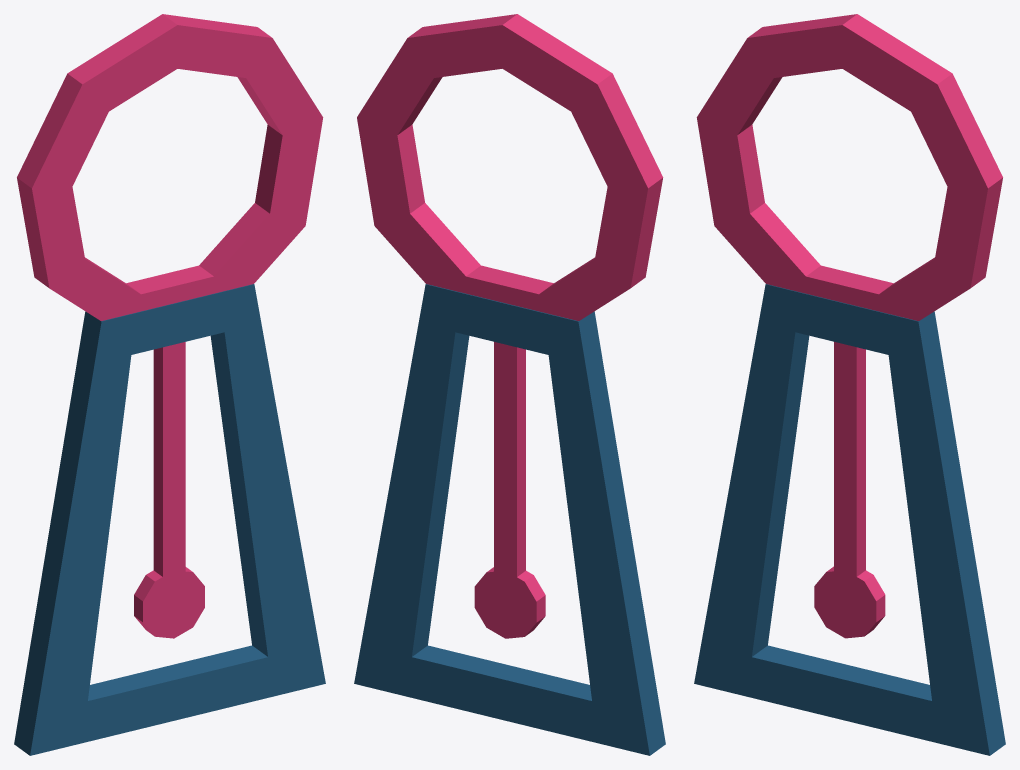
File: watch.fbx
3 renders of one model, left to right at view 1: azimuth 30°, elevation 25°; view 2: azimuth 150°, elevation 25°; view 3: azimuth 330°, elevation 25°, orthographic.
Parts seen in each view (by area): view 1: Cube.002; view 2: Cube.002; view 3: Cube.002.
Part boxes in pixels (box(x1,y1,x2,y2)): Cube.002: box(14, 14, 325, 755); Cube.002: box(354, 14, 665, 755); Cube.002: box(694, 14, 1005, 755).
Bounding box in the file's own units: 200 × 449 × 18.74.
